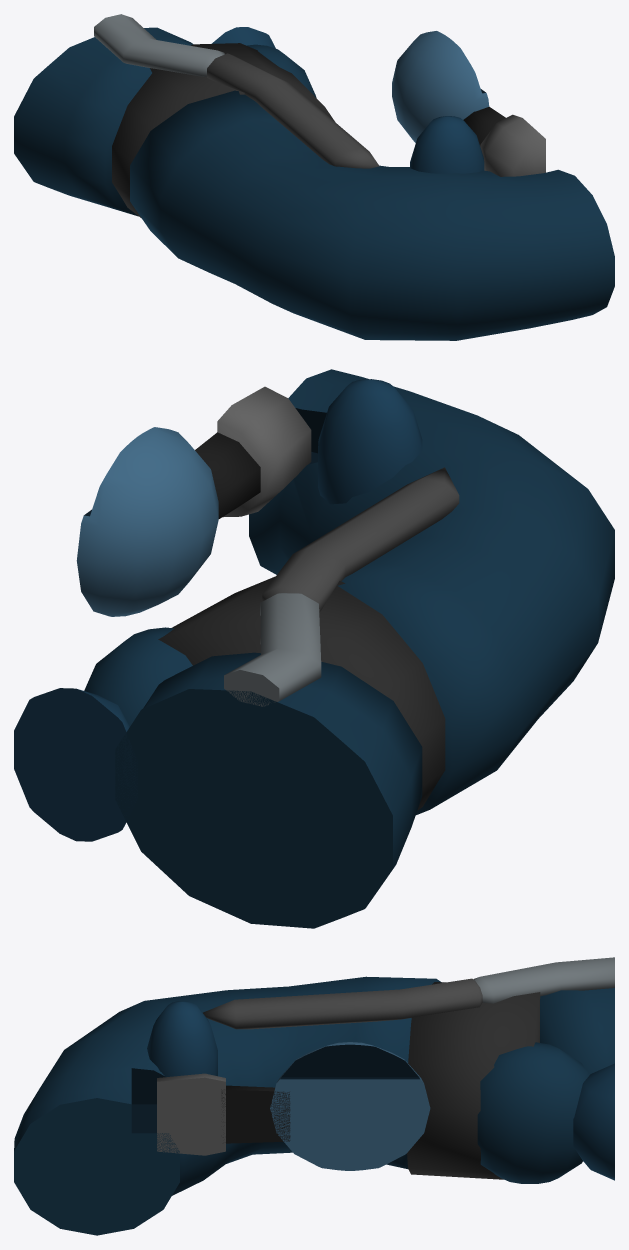
File: newsh-caret-54.glb
3 renders of one model, top to bottom at view 1: azimuth 30°, elevation 25°; view 2: azimuth 150°, elevation 25°; view 3: azimuth 270°, elevation 25°, orthographic. The views are drawn at different scales.
Visible parts, largest first — view 1: newsh-caret-54; view 2: newsh-caret-54; view 3: newsh-caret-54.
Part boxes in pixels (x1,y1,x2,y2): newsh-caret-54: (14,14,614,340); newsh-caret-54: (14,369,614,928); newsh-caret-54: (14,957,614,1235).
Size of the model in its own units: 1.35 by 0.824 by 2.18.
